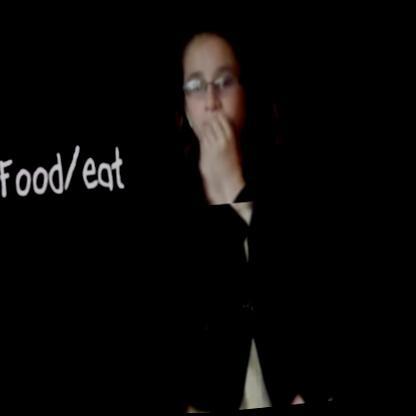Food: (165, 0, 281, 209)
